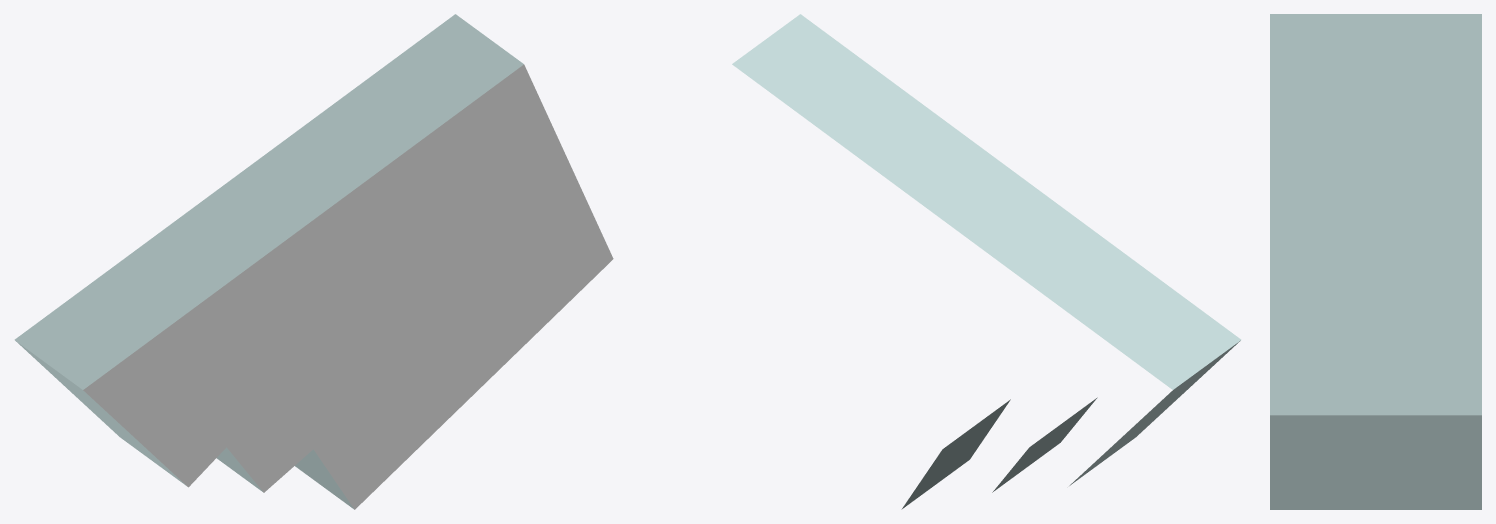
3 views of the same model, side by side, from view 1: azimuth 30°, elevation 25°; view 2: azimuth 150°, elevation 25°; view 3: azimuth 270°, elevation 25° (orthographic). The views are drawn at different scales.
Parts seen in each view (by area): view 1: 0_1_1_2_3_0_1_2; view 2: 0_1_1_2_3_0_1_2; view 3: 0_1_1_2_3_0_1_2.
Part boxes in pixels (box(x1,y1,x2,y2)): 0_1_1_2_3_0_1_2: box(14, 14, 613, 509); 0_1_1_2_3_0_1_2: box(732, 14, 1241, 509); 0_1_1_2_3_0_1_2: box(1270, 14, 1481, 509).
Size of the model in its own units: 13.38 by 9.74 by 3.
